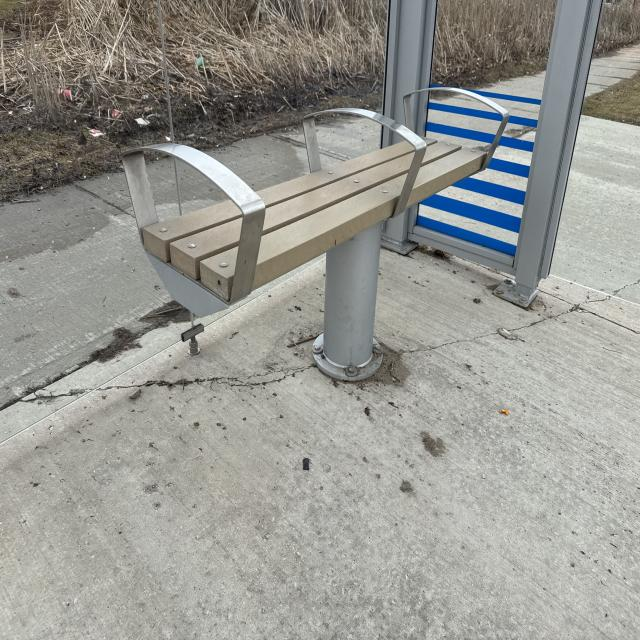Bench: (125, 84, 504, 367)
